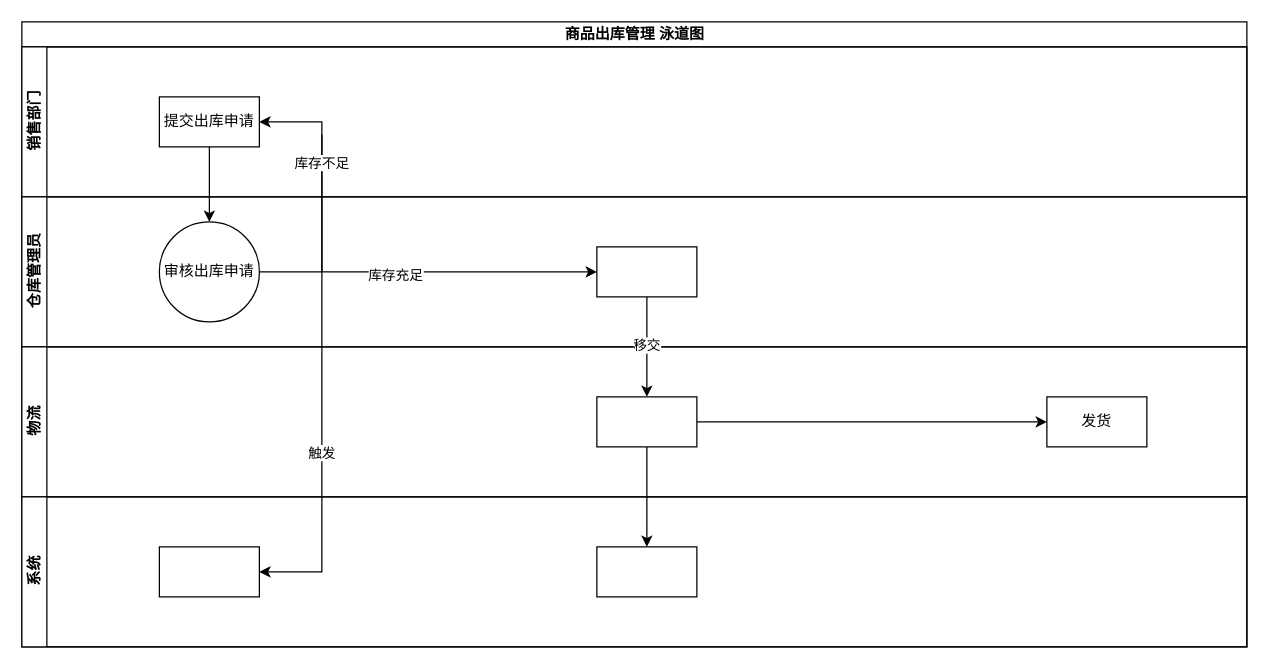
The diagram is 1279 pixels wide and 669 high, and some of its shapes have lost their labels. Here are the shapes that lost their labels. From the top down, the centre of each, then its label:
(646,271): 拣货包装商品
(646,421): 生成订单
(208,571): 库存预警通知
(646,571): 更新库存
